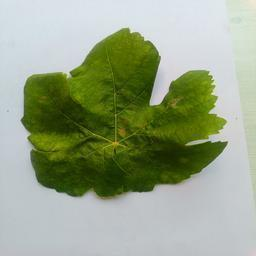Powdery-Mildew: (116, 107, 146, 140), (36, 133, 72, 157), (72, 70, 101, 98), (125, 34, 151, 61), (165, 91, 189, 114), (199, 117, 221, 138)
